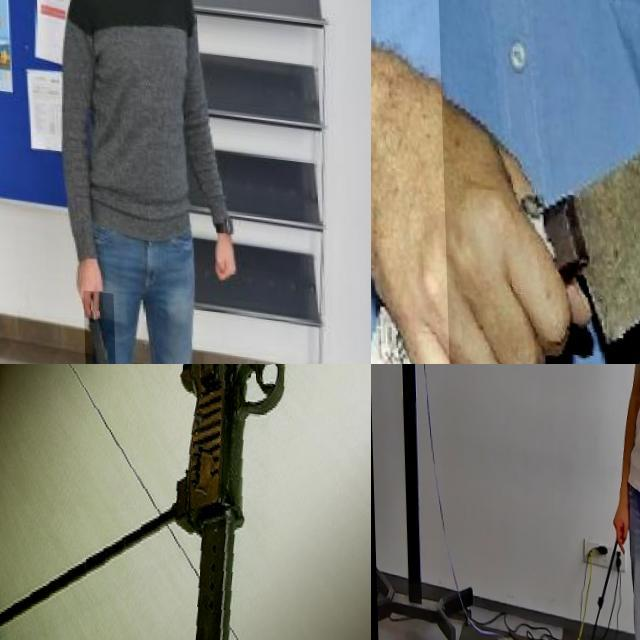-: (435, 0, 640, 364), (81, 282, 114, 364)
gun-knife-thesis - v11 Yolov5 augmented: (0, 364, 371, 640), (542, 364, 590, 399)
